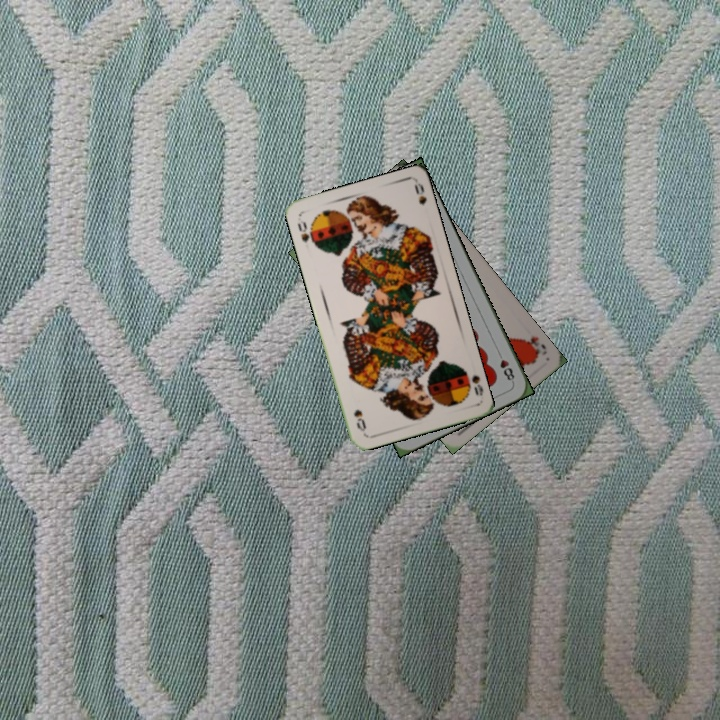H8: (493, 347, 517, 385)
HO: (520, 332, 550, 360)
SO: (458, 364, 486, 398), (293, 216, 318, 250)
